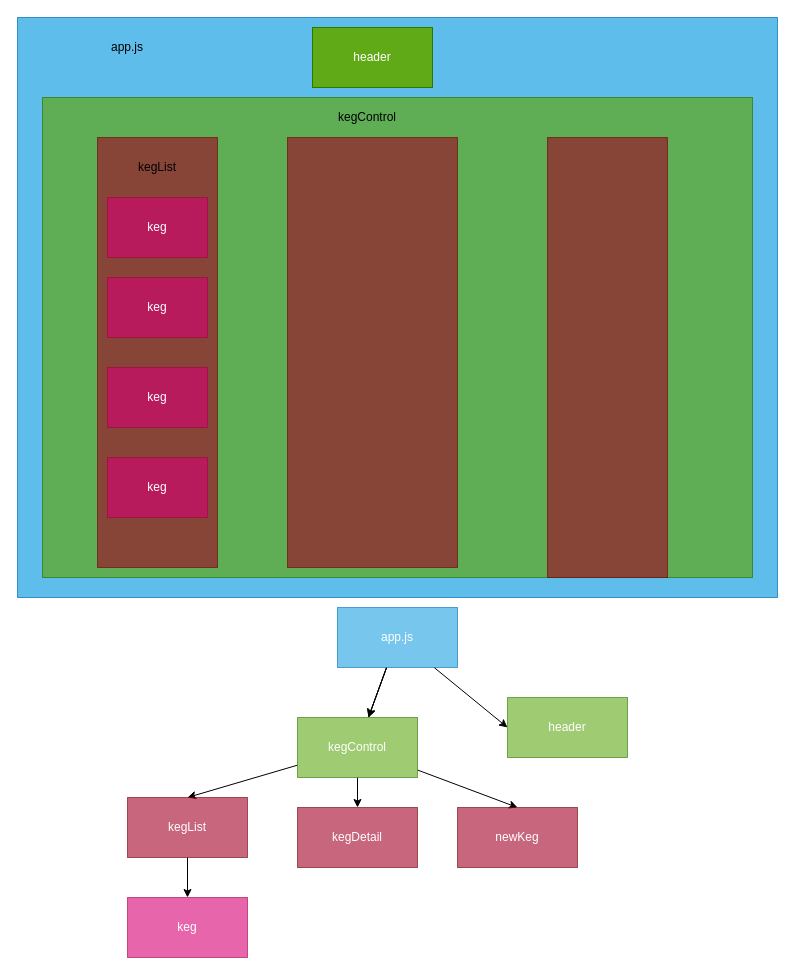
Some shapes in this 795 by 975 pixel diagram are drawn without their labels. The shapes that lost their labels are listed below. From the top down, each one's box as (x1, y1, x2, y2) in pixels, then its label:
(286, 136, 458, 568): keg detail
(546, 136, 668, 578): newKegForm
